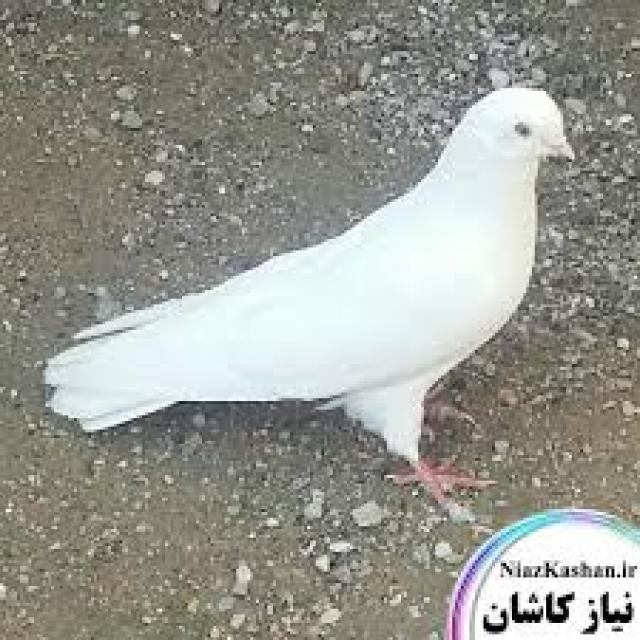bird: (32, 81, 579, 516)
